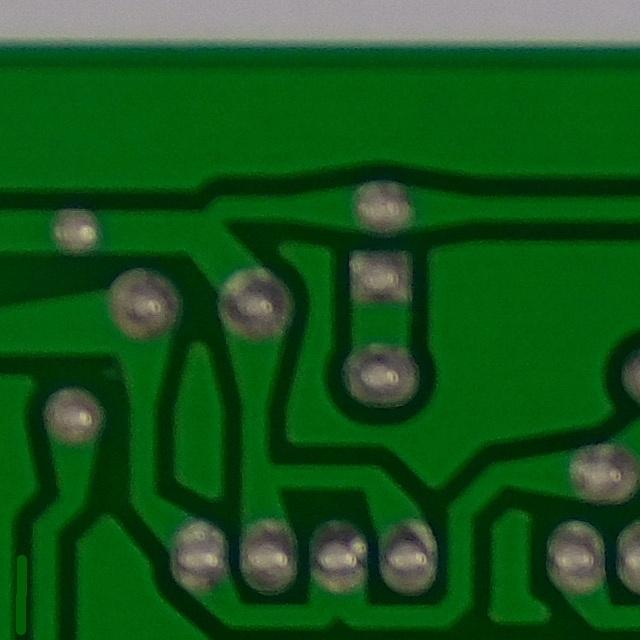spurious_copper: (0, 529, 49, 640)
